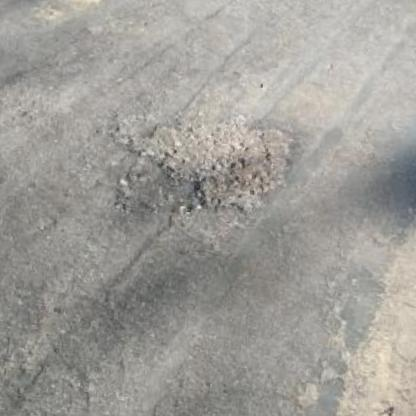pothole: (104, 98, 306, 223)
